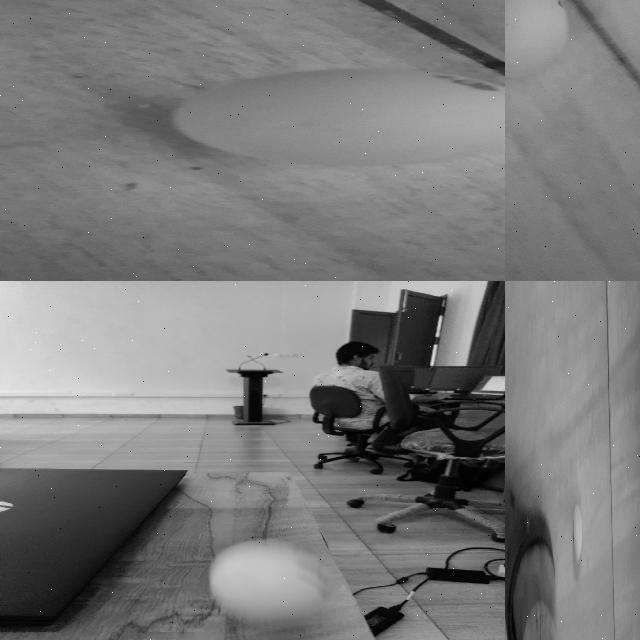ping-pong-ball: (170, 68, 503, 166), (208, 544, 326, 624), (505, 0, 571, 78), (572, 504, 582, 560)
